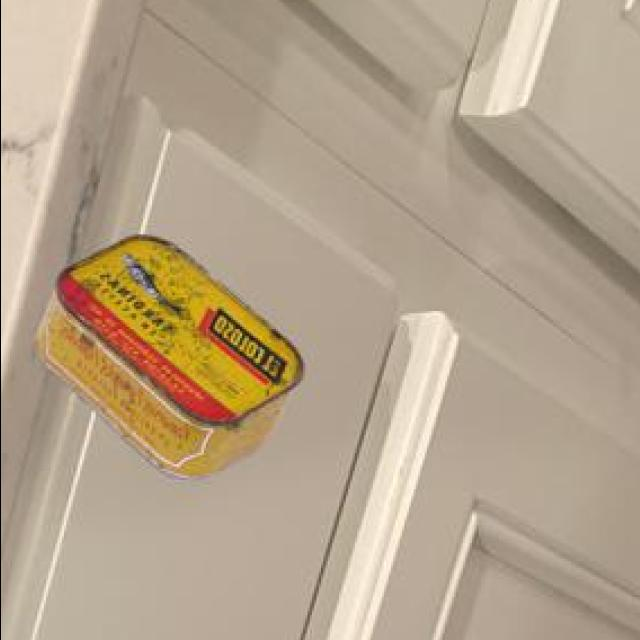logam: (30, 231, 299, 477)
